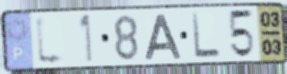1: (77, 12, 95, 66)
5: (225, 9, 257, 60)
8: (112, 14, 141, 62)
A: (143, 12, 183, 61)
L: (34, 12, 68, 67), (190, 11, 223, 61)
